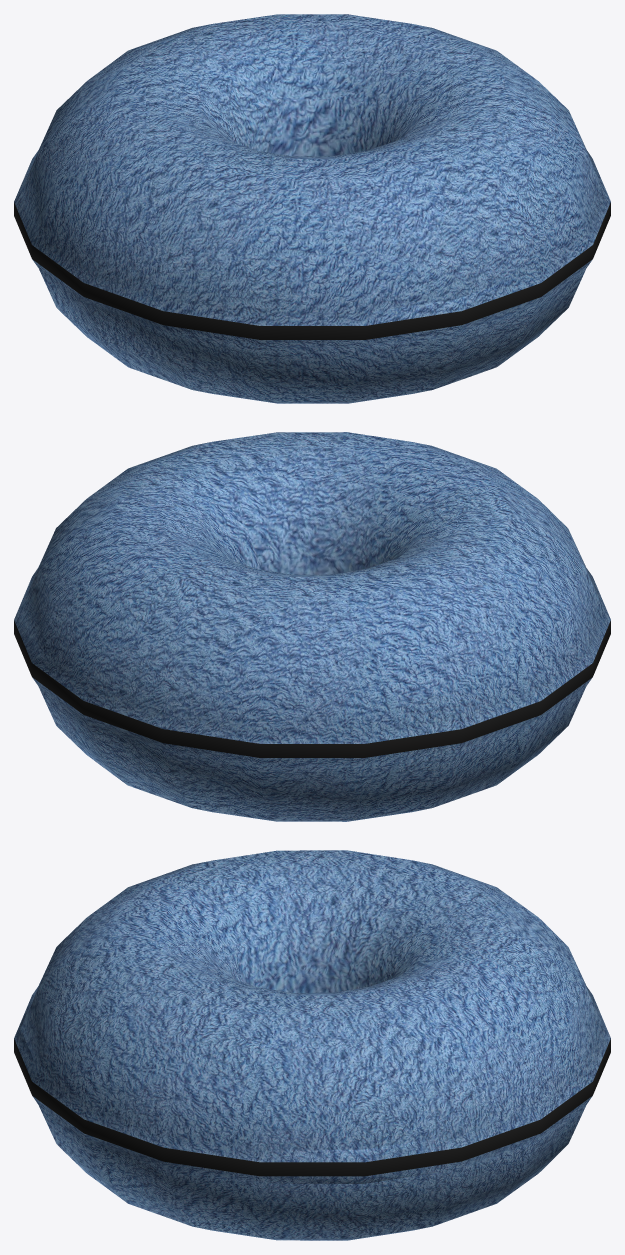
File: YGB0110053.fbx
The picture shows the model from 3 angles, top to bottom: view 1: azimuth 30°, elevation 25°; view 2: azimuth 150°, elevation 25°; view 3: azimuth 270°, elevation 25°; orthographic projection.
Visible parts, largest first — view 1: smYGB0110053; view 2: smYGB0110053; view 3: smYGB0110053.
Part boxes in pixels (box(x1,y1,x2,y2)): smYGB0110053: box(14, 14, 610, 403); smYGB0110053: box(14, 432, 610, 821); smYGB0110053: box(14, 850, 610, 1240).
Size of the model in its own units: 91 by 39.11 by 92.44.
1 material, 1 textured.
